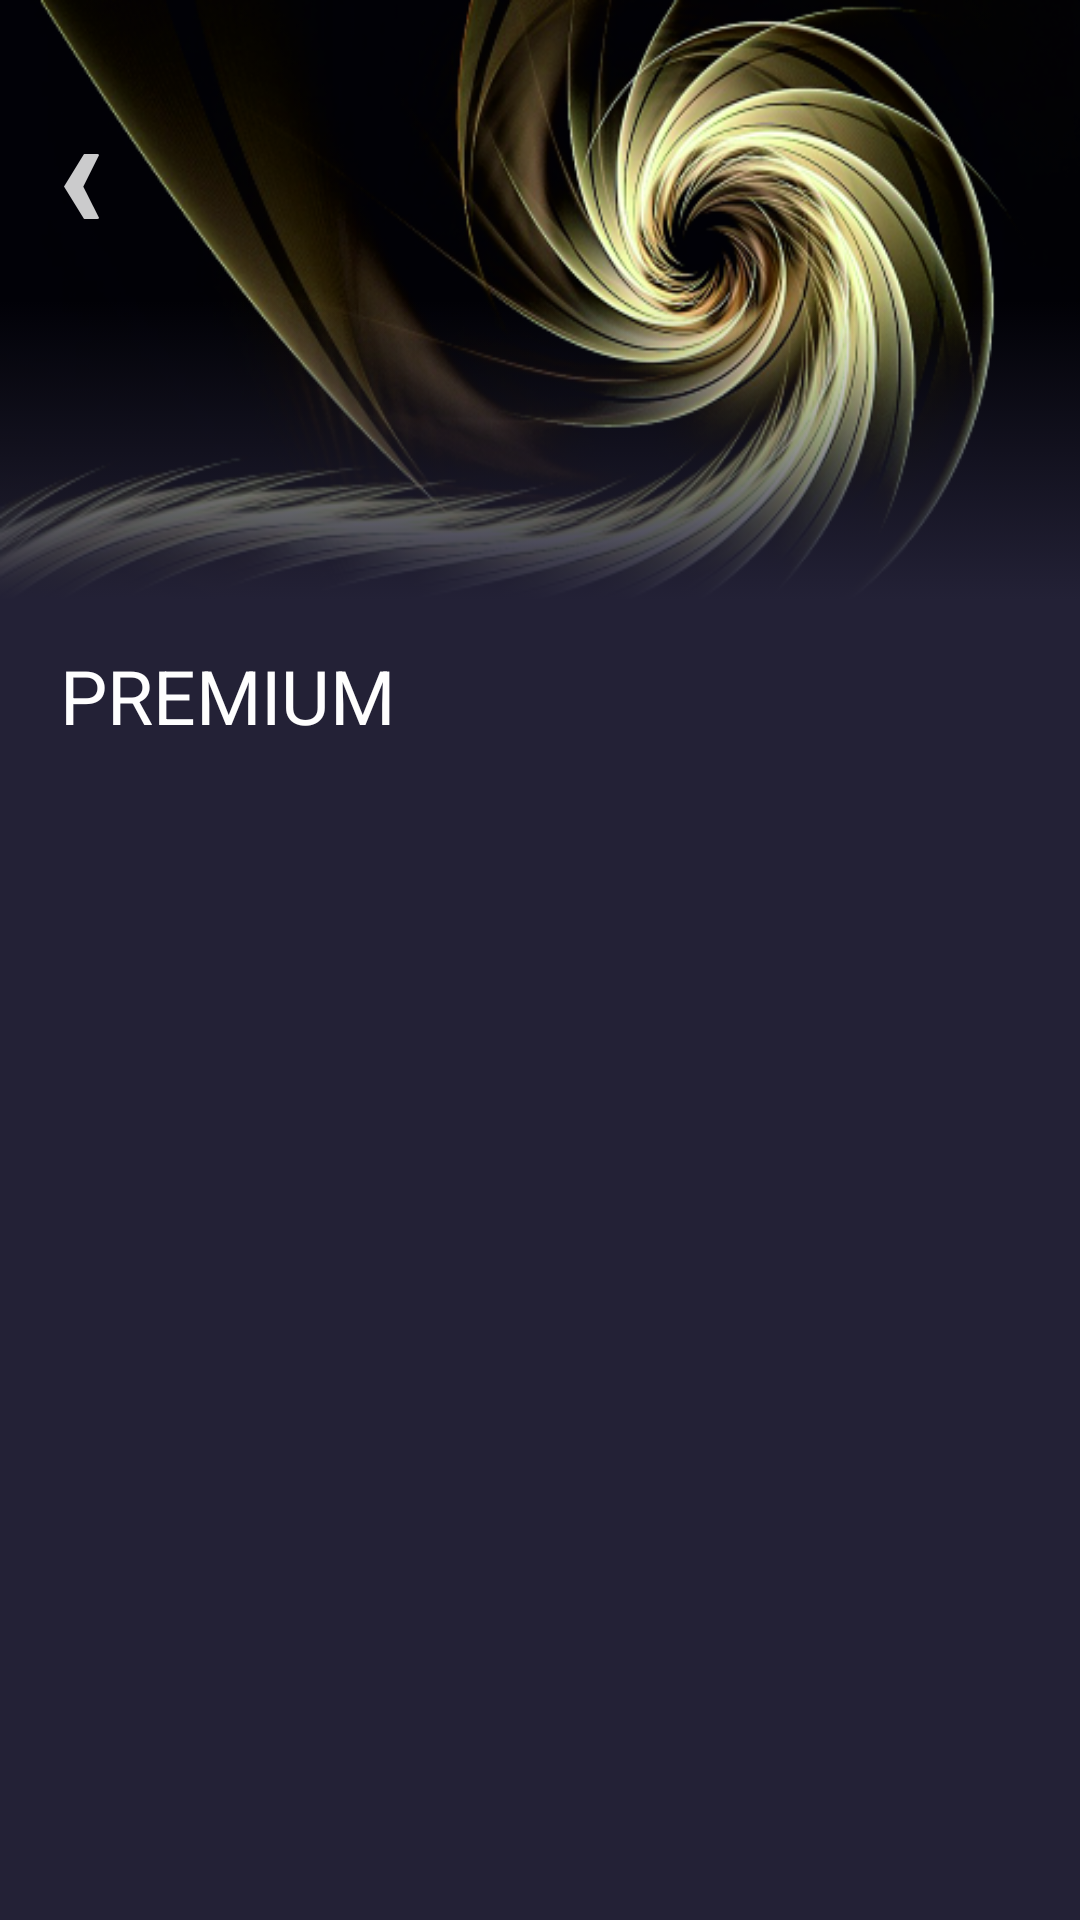

Point at icon controls on the screen. Image size 1080px×1920px, points as (x,y).
back: (81,186)
